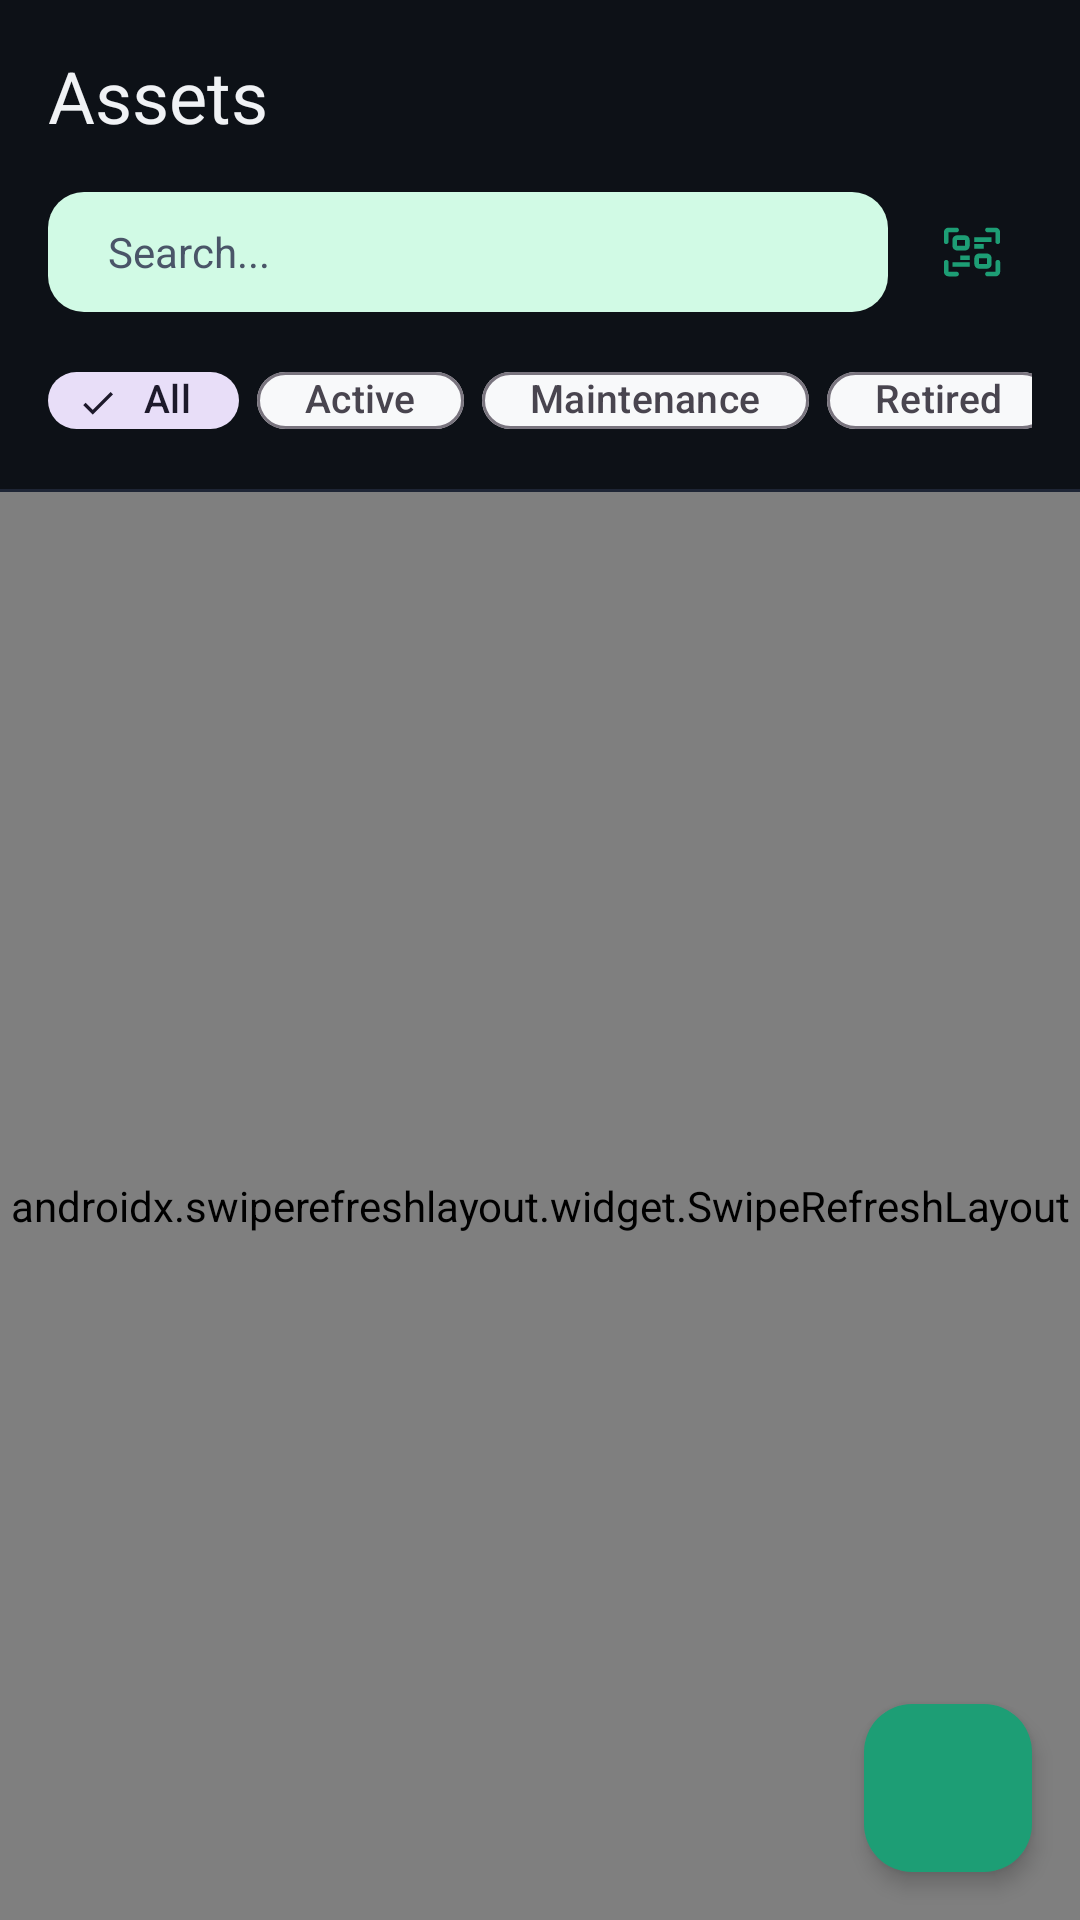

Point at icon controls on the screen. Image size 1080px×1920px, points as (x=x, y=y).
Scan QR: (x=972, y=252)
